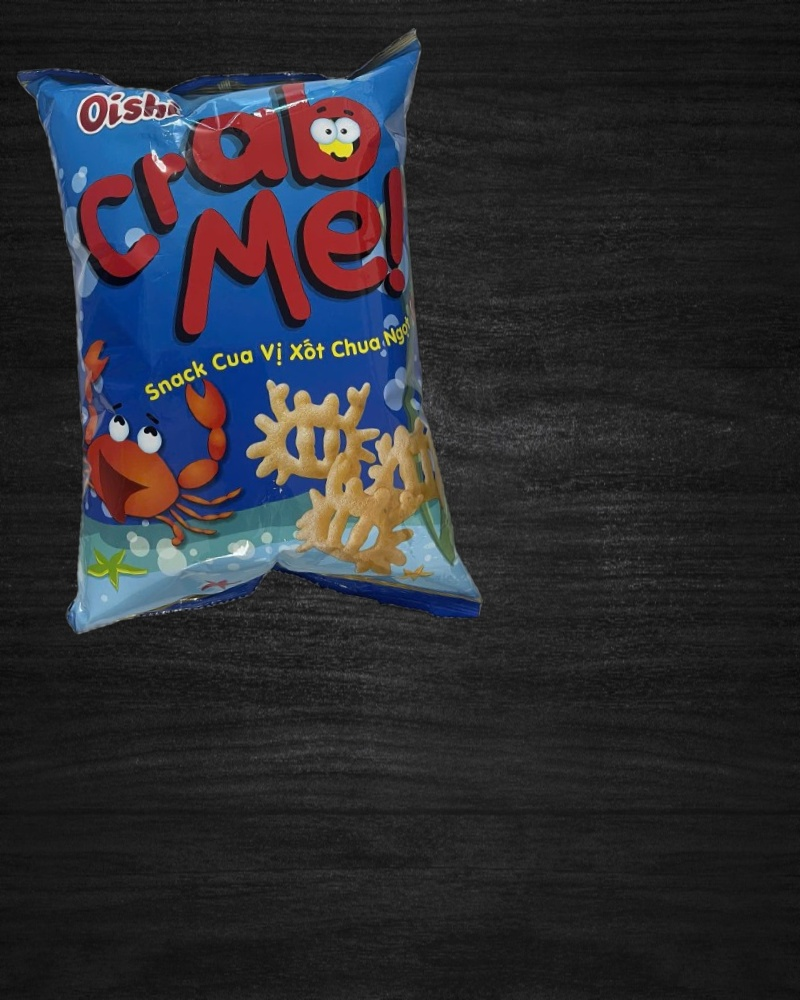Snack cua: (16, 27, 484, 648)
